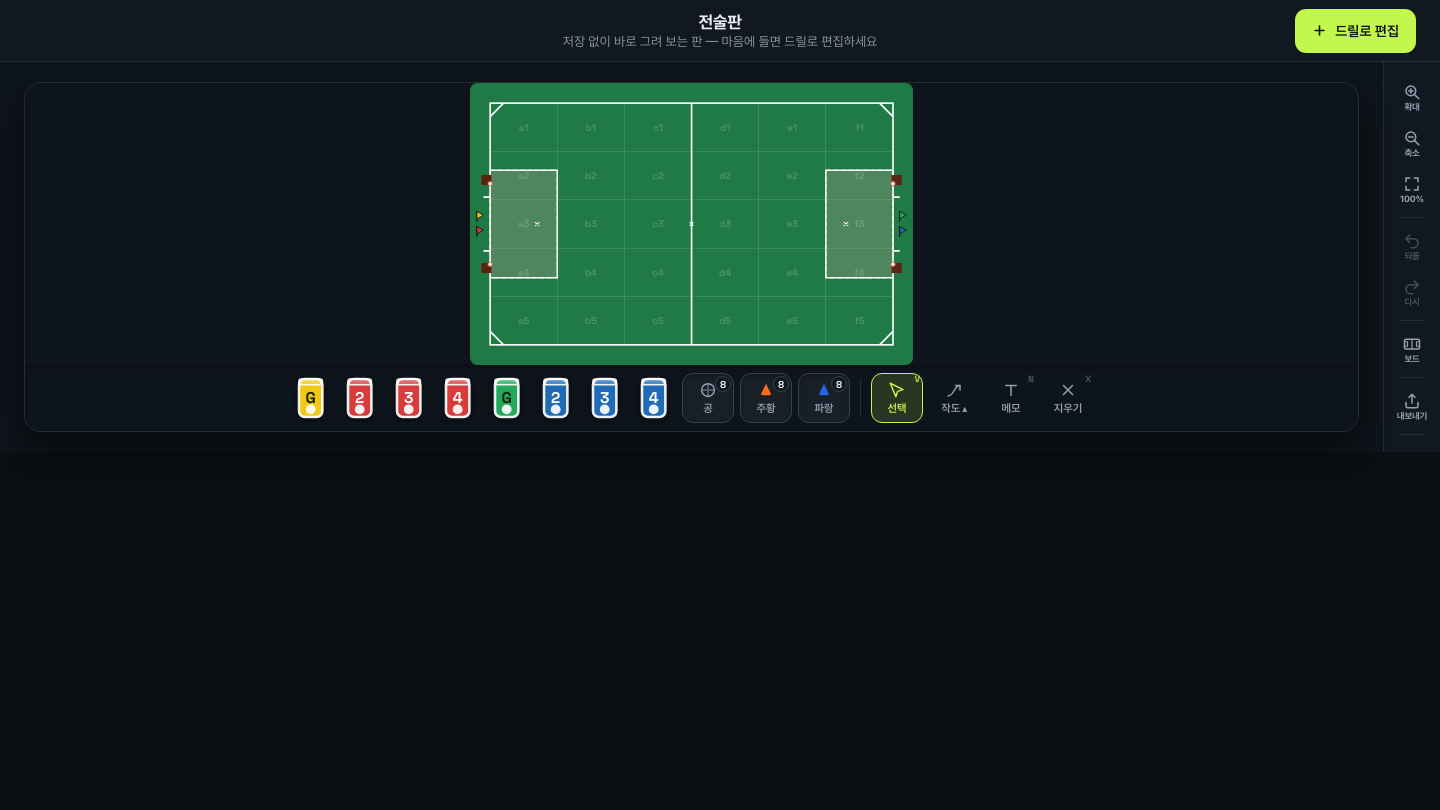
Test: Esc 우선순위 — 팝오버 > 전역 (등록 단계가 보장한다) › 코트 모달이 떠 있으면 Esc 는 모달만 닫는다 — 판 선택은 안 건드린다
Check: the navigation bar named "도구" is shown, box [25,365,1358,431]
Click the button with aria-label "보드 설정" at (1412, 349), box [1390,327,1434,371]
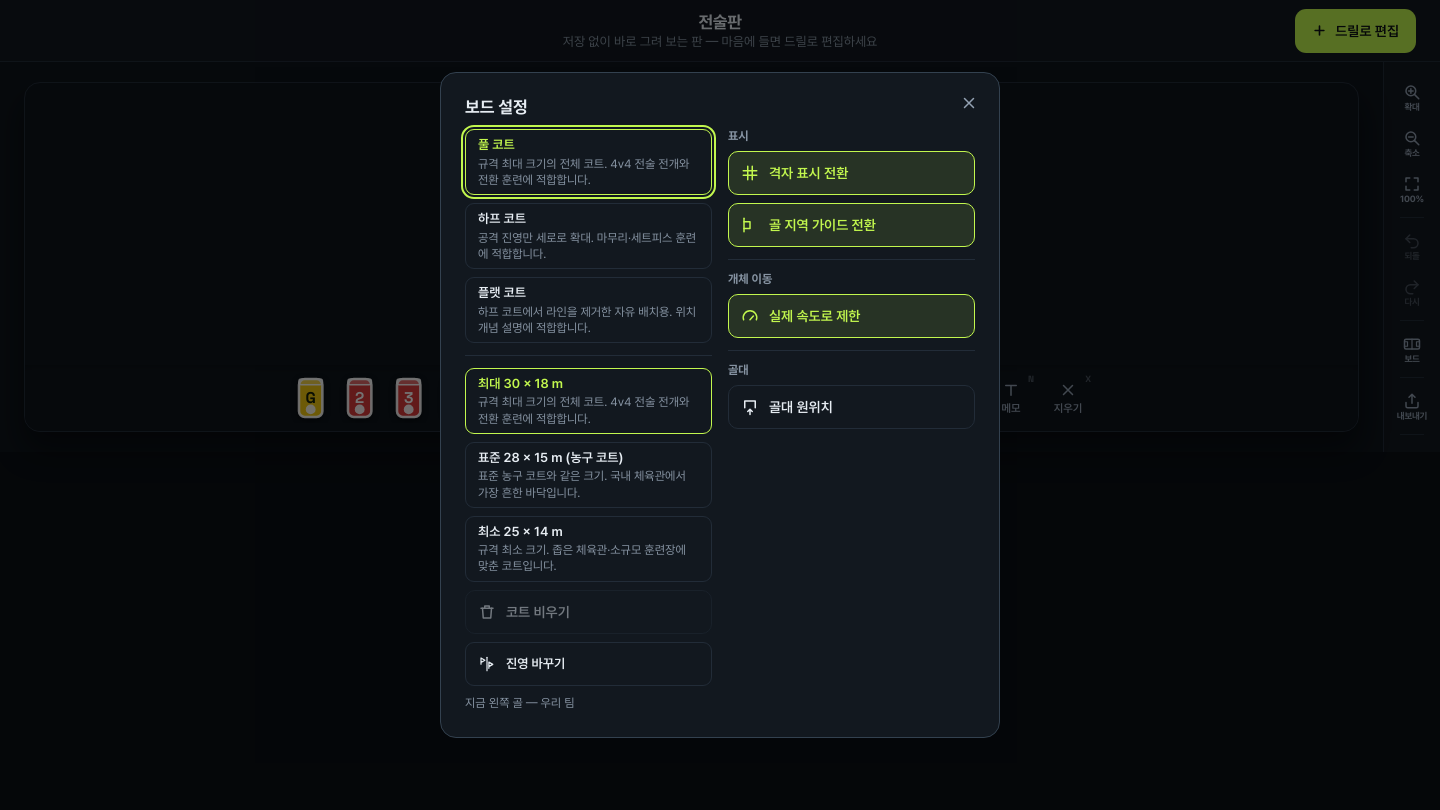
Check: the dialog "보드 설정" is shown, box [440,72,1000,738]
Press Escape
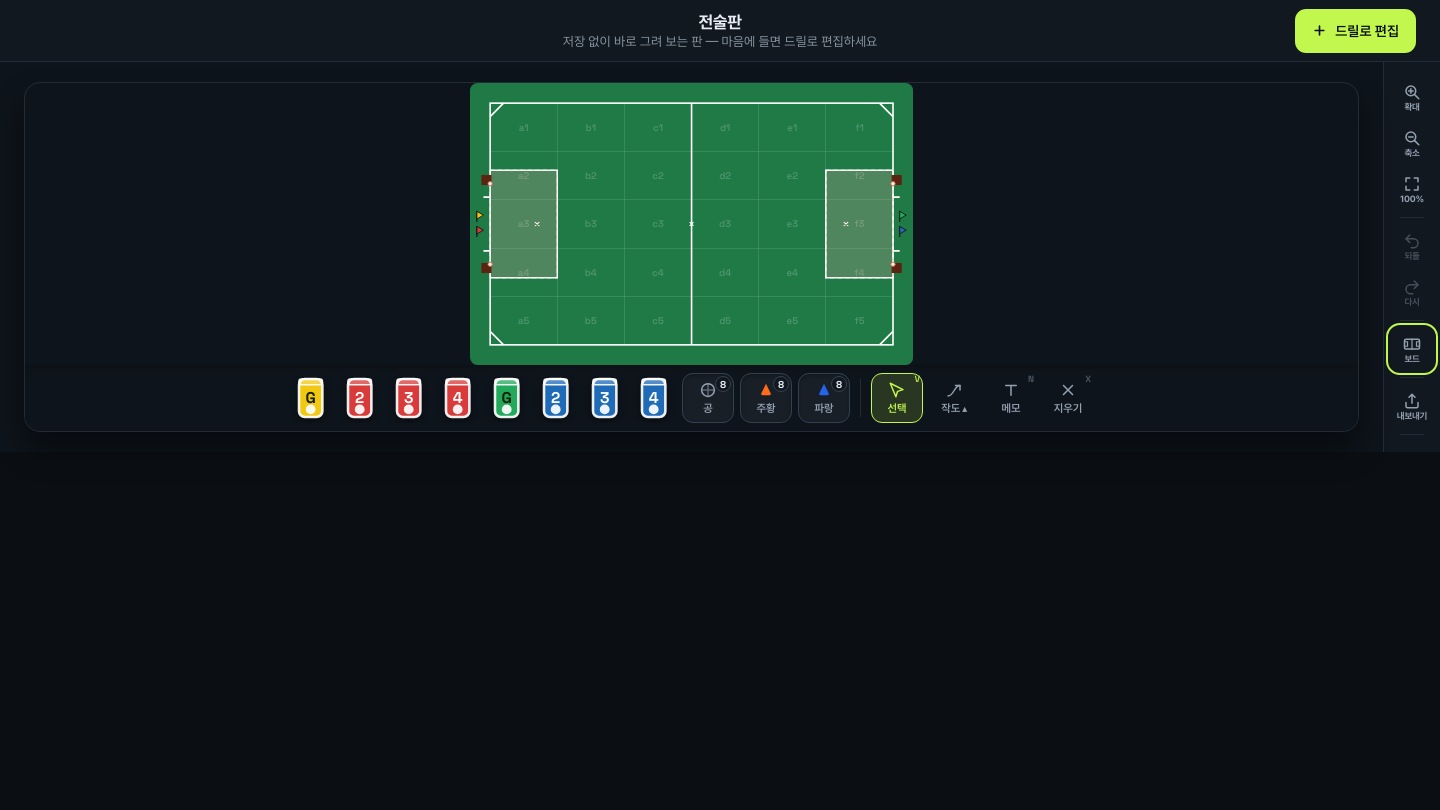
Check: the icon named "코트 편집 영역" is shown, box [470,83,913,365]
Check: the heading "보드 설정" is gone
